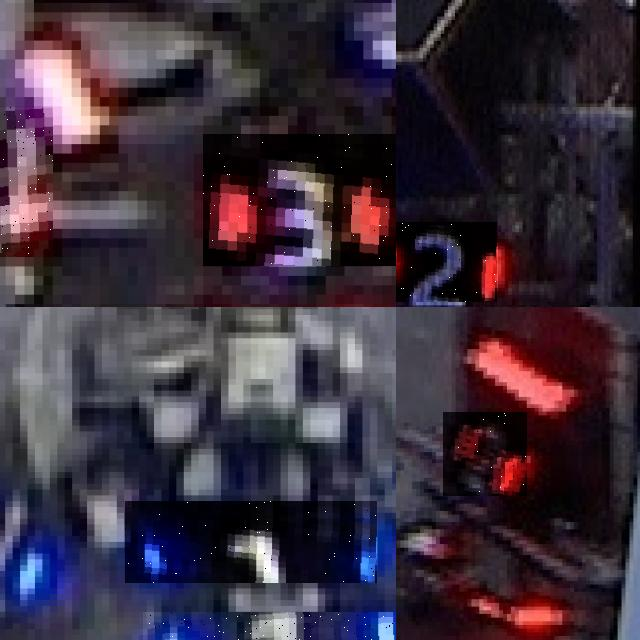B1: (125, 501, 377, 583), (0, 469, 64, 597), (143, 611, 396, 640)
R2: (396, 222, 497, 302), (443, 412, 527, 496)
R3: (203, 134, 396, 266), (0, 106, 53, 257)
